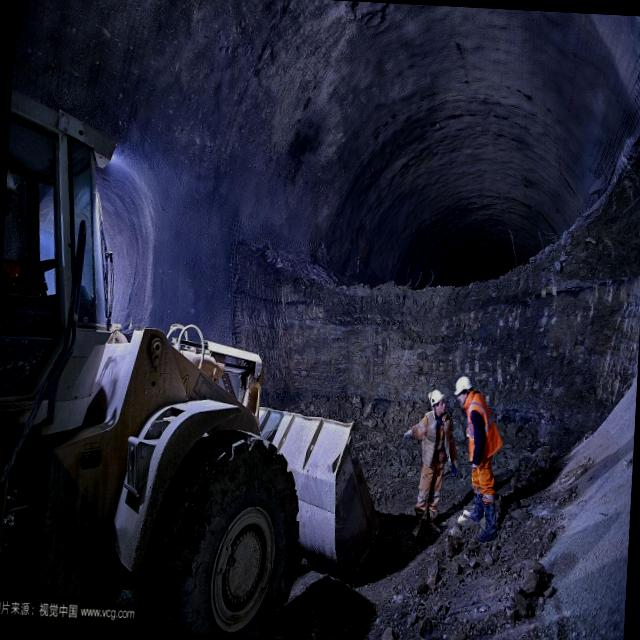helmet: (424, 382, 449, 413), (449, 371, 472, 404)
vest: (406, 405, 460, 497), (458, 391, 505, 471)
